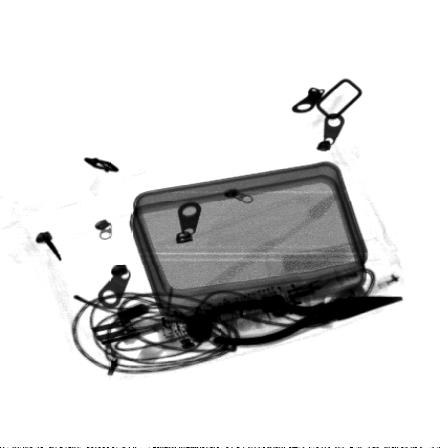Pliers: (203, 294, 406, 348)
